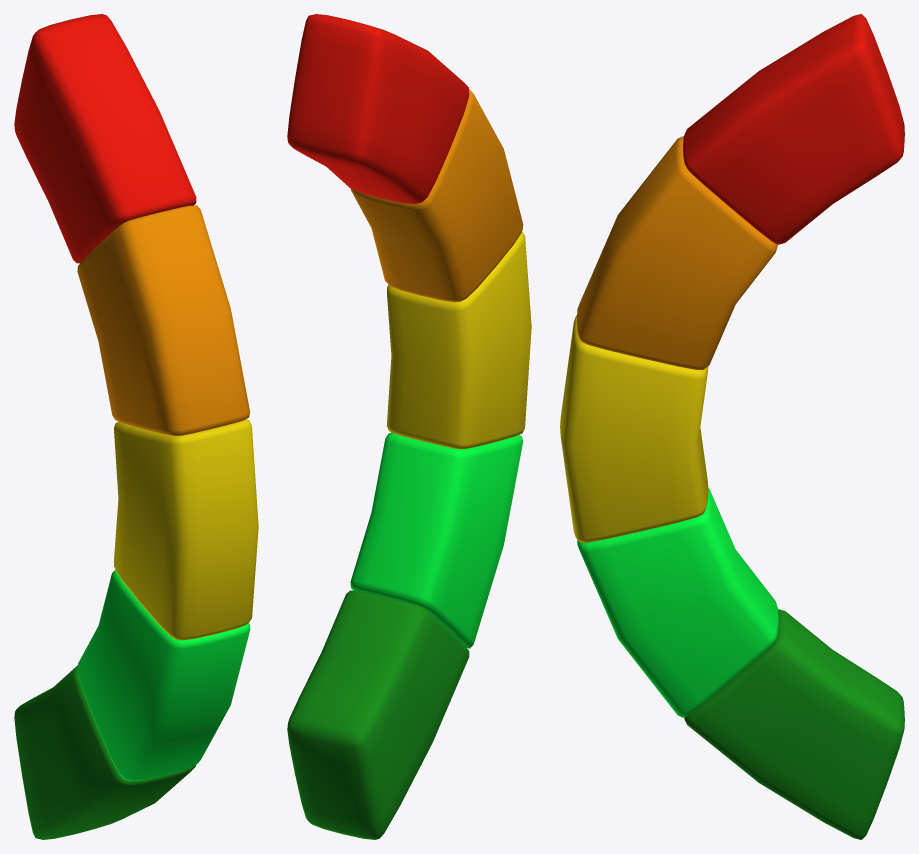
File: bar_3.fbx
3 renders of one model, left to right at view 1: azimuth 30°, elevation 25°; view 2: azimuth 150°, elevation 25°; view 3: azimuth 270°, elevation 25°, orthographic.
Visible parts, largest first — view 1: Cube.010, Cube.006, Cube.009, Cube.008, Cube.007; view 2: Cube.007, Cube.006, Cube.008, Cube.009, Cube.010; view 3: Cube.006, Cube.007, Cube.010, Cube.008, Cube.009.
Boxes of the visible parts, x1,y1,x2,y2 form: Cube.010: (77,205,250,435); Cube.006: (14,14,196,263); Cube.009: (113,419,258,640); Cube.008: (77,570,250,780); Cube.007: (14,665,195,839); Cube.007: (287,590,469,839); Cube.006: (287,14,469,203); Cube.008: (350,432,523,648); Cube.009: (386,232,531,449); Cube.010: (351,89,523,302); Cube.006: (683,14,904,244); Cube.007: (684,609,904,839); Cube.010: (577,136,777,369); Cube.008: (577,488,778,717); Cube.009: (560,315,708,542).
Size of the model in its own units: 29.4 by 264 by 103.
